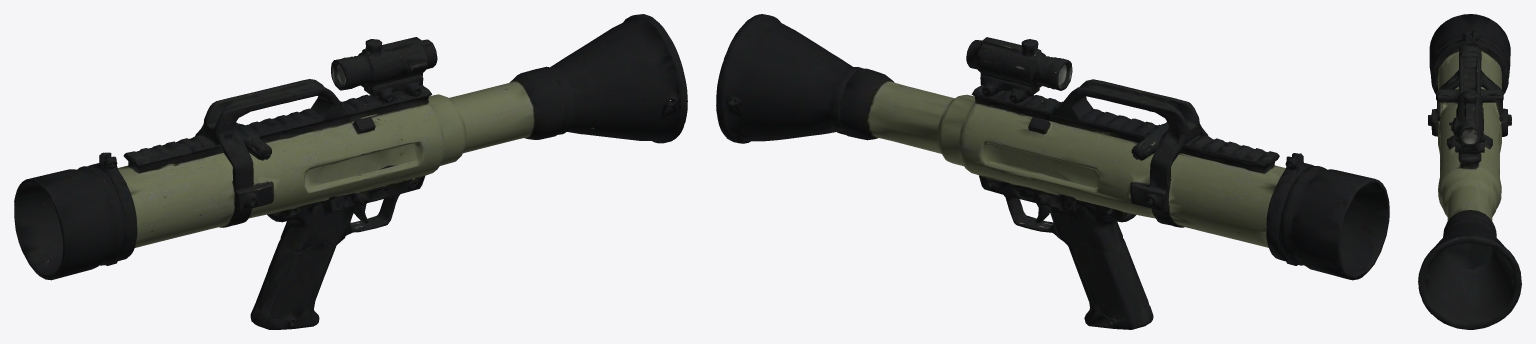
File: gun_rocket.glb
The picture shows the model from 3 angles, left to right: view 1: azimuth 30°, elevation 25°; view 2: azimuth 150°, elevation 25°; view 3: azimuth 270°, elevation 25°; orthographic projection. The views are drawn at different scales.
Bounding box in the file's own units: 1.9 × 0.7737 × 0.3548.
1 material, 1 textured.
